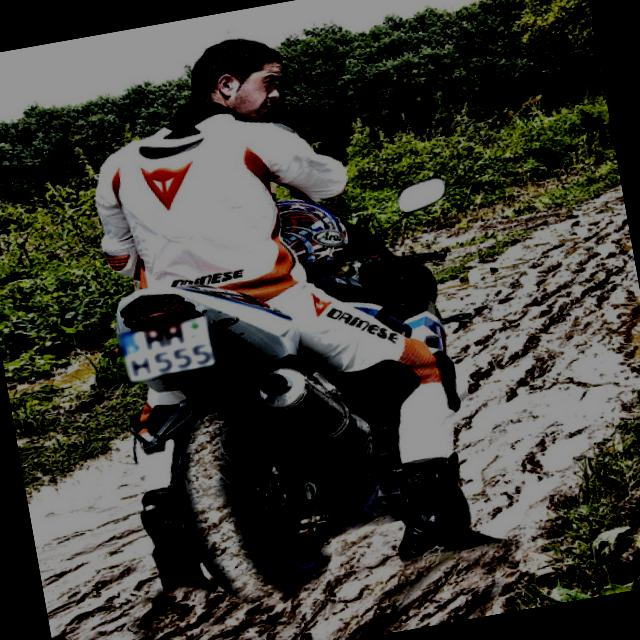Vehicle: (95, 170, 513, 616)
